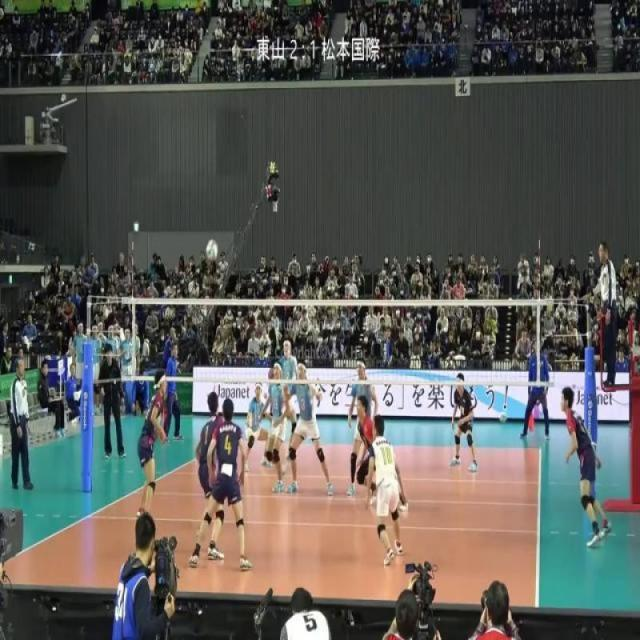volleyball: (206, 238, 218, 262)
